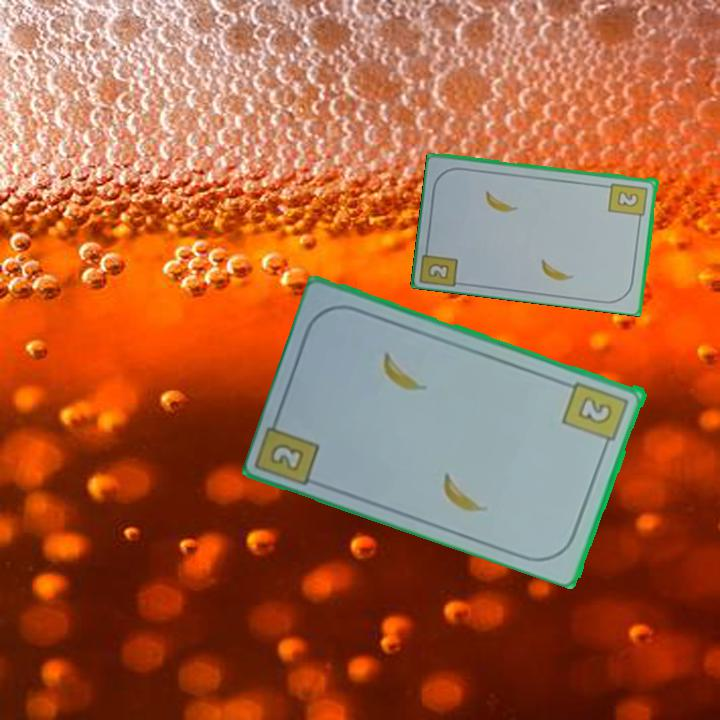2b: (560, 378, 632, 452), (606, 179, 651, 225), (419, 240, 461, 288), (267, 439, 308, 475)
